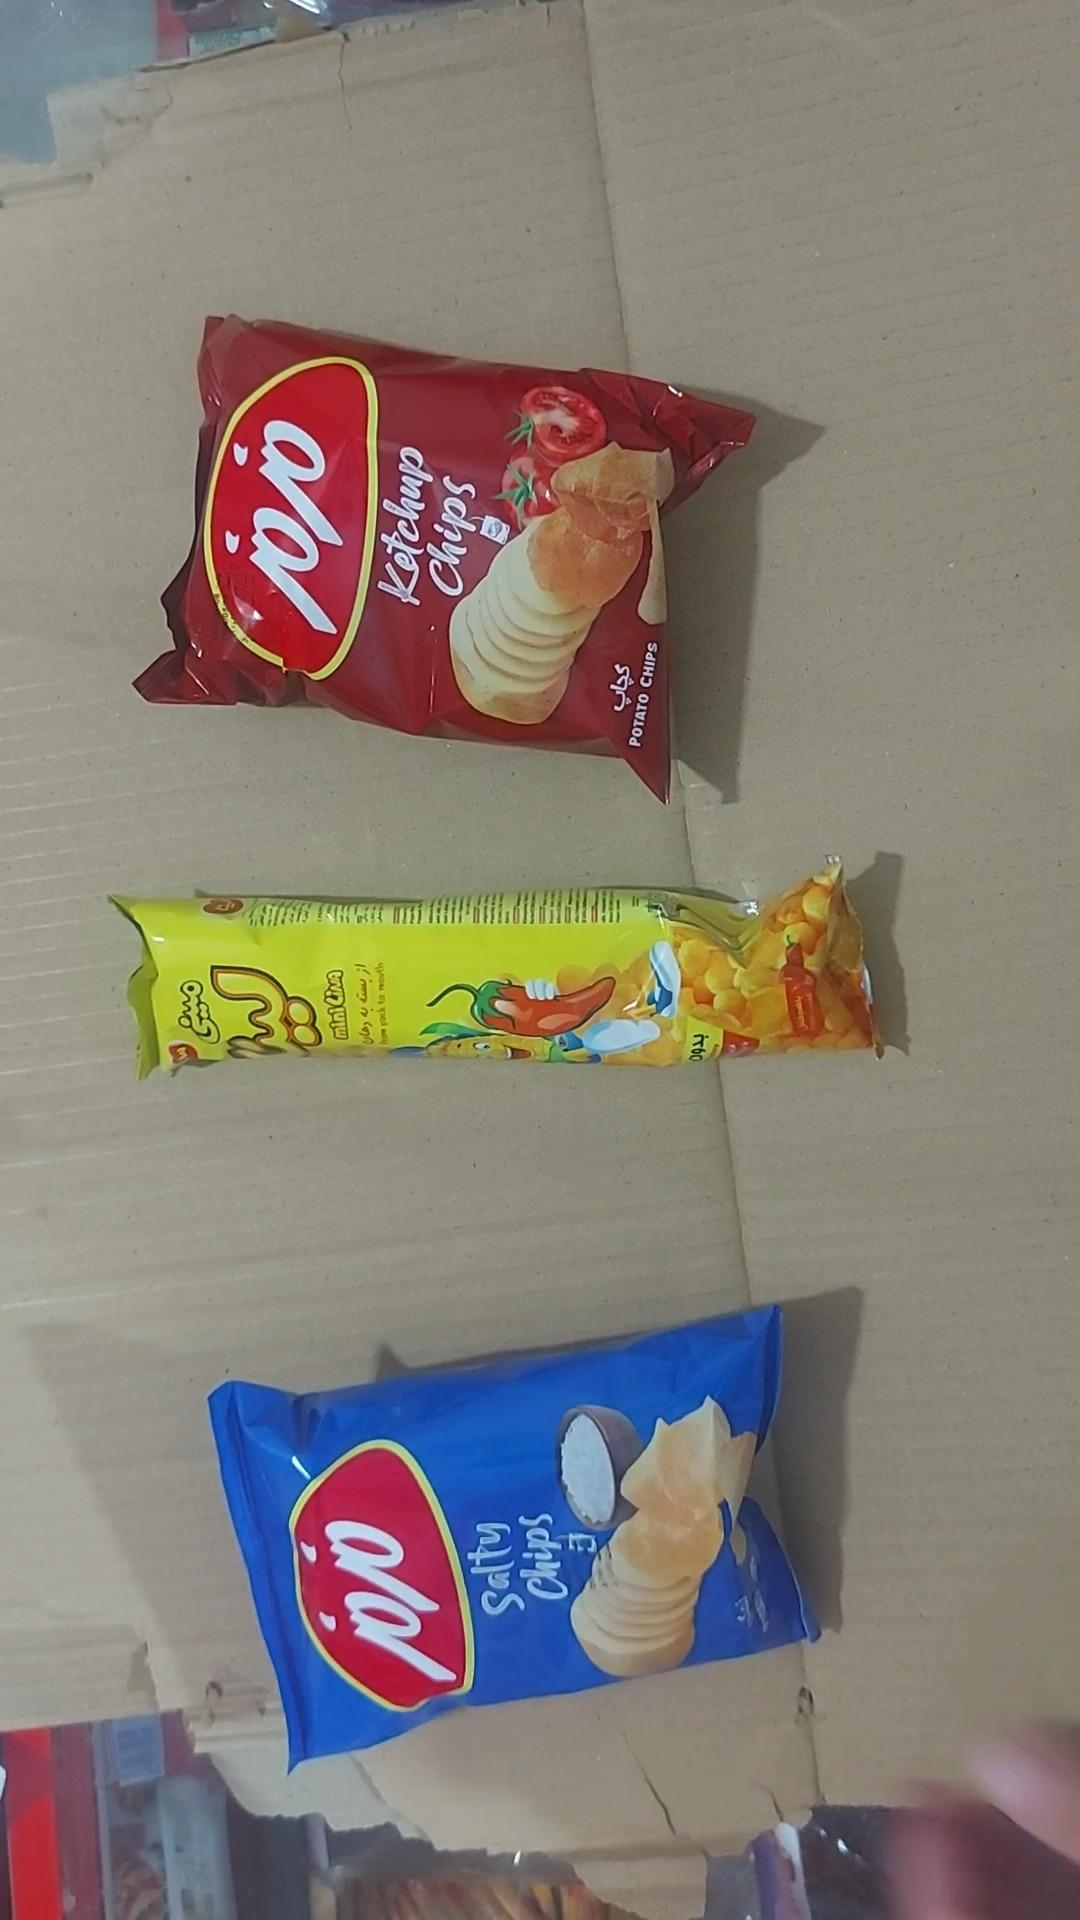Maz Maz ketchup chips: (135, 316, 753, 800)
Maz Maz salty chips: (208, 1308, 816, 1768)
Mini Lina: (113, 865, 880, 1077)
